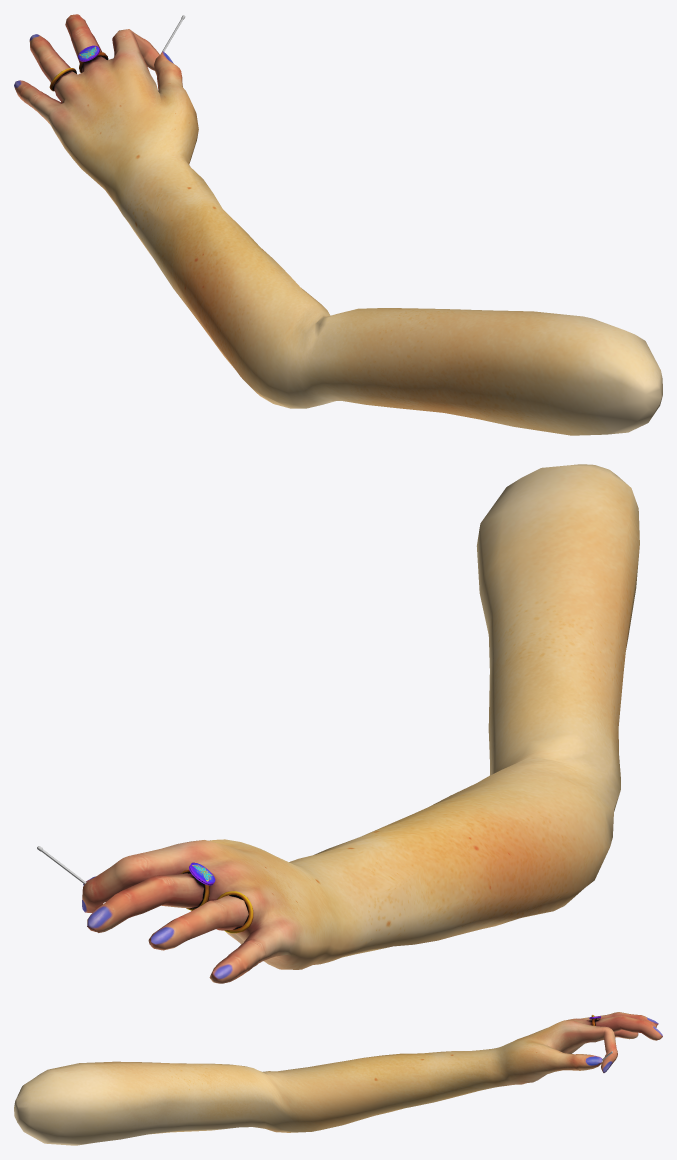
File: Ch_ArmHoldingMatch_model.fbx
3 renders of one model, top to bottom at view 1: azimuth 30°, elevation 25°; view 2: azimuth 150°, elevation 25°; view 3: azimuth 270°, elevation 25°, orthographic. The views are drawn at different scales.
Parts seen in each view (by area): view 1: Ch_ArmHoldingMatch; view 2: Ch_ArmHoldingMatch; view 3: Ch_ArmHoldingMatch.
Boxes of the visible parts, box(x1,y1,x2,y2) form: Ch_ArmHoldingMatch: box(14, 14, 662, 435); Ch_ArmHoldingMatch: box(82, 464, 639, 983); Ch_ArmHoldingMatch: box(14, 1012, 662, 1145).
Size of the model in its own units: 28.28 by 21.31 by 98.91.
